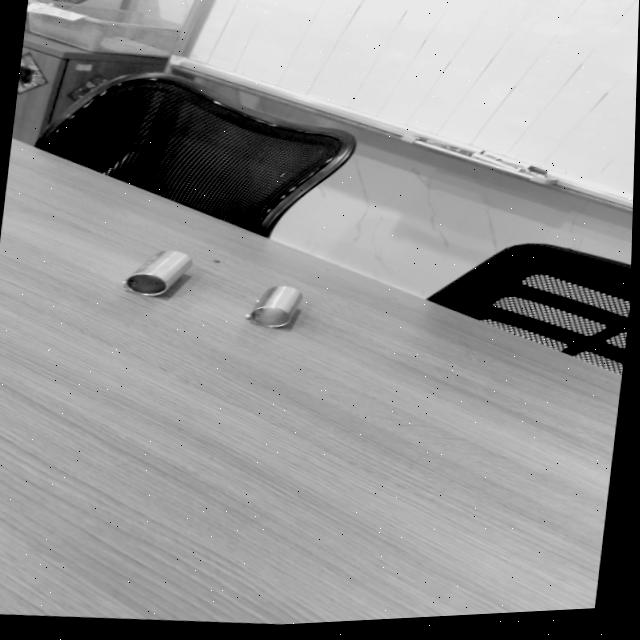Co_Lon: (121, 237, 195, 307)
Co_Nho: (244, 273, 306, 338)
